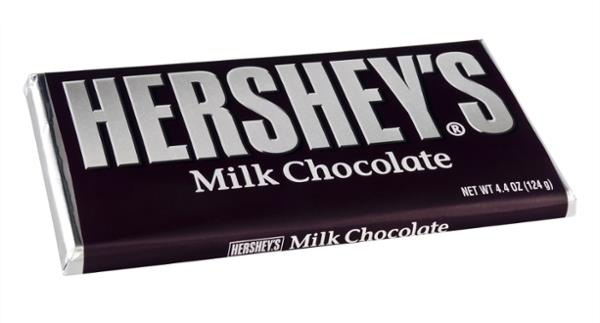hershey: (17, 41, 572, 275)
